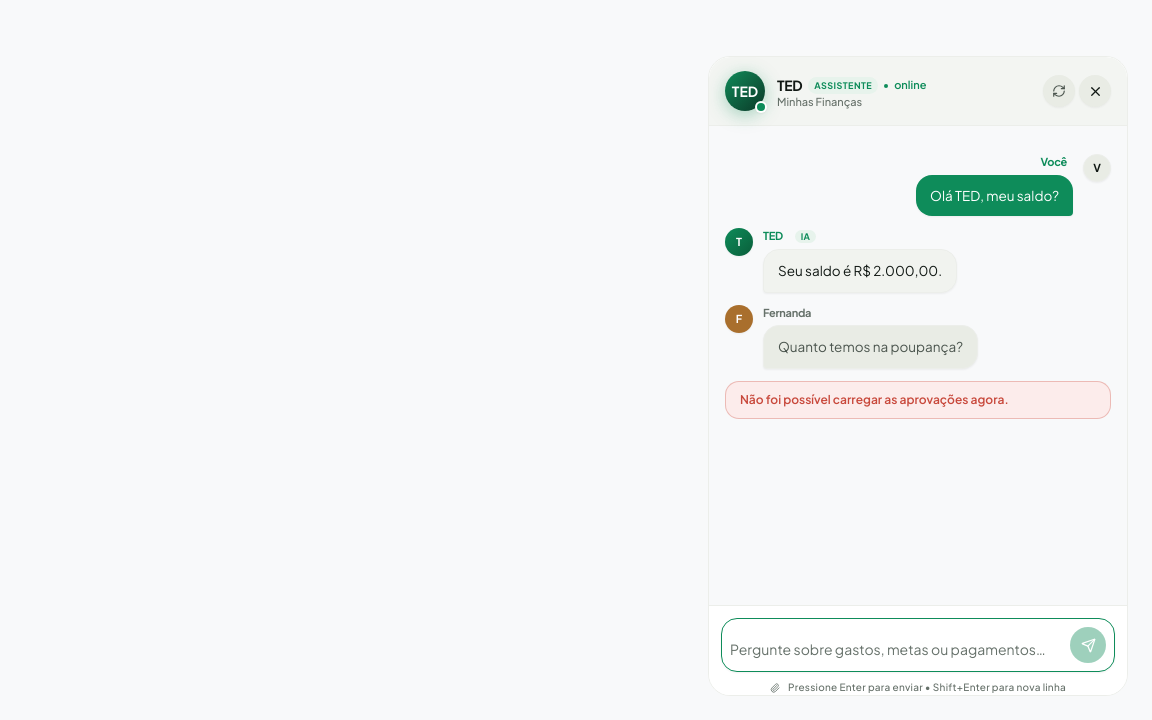
TedChat Component – Canonical FinanceChatAgent REST › shows a safe error when sending a message fails
The width and height of the screenshot is (1152, 720).
Check: the text "Olá TED, meu saldo?" is shown, box [930,184,1059,206]
Type "Olá" into the text box with placeholder "Pergunte sobre gastos, metas ou pagamentos…".
click(897, 649); type("Olá")  # box [730,635,1064,663]
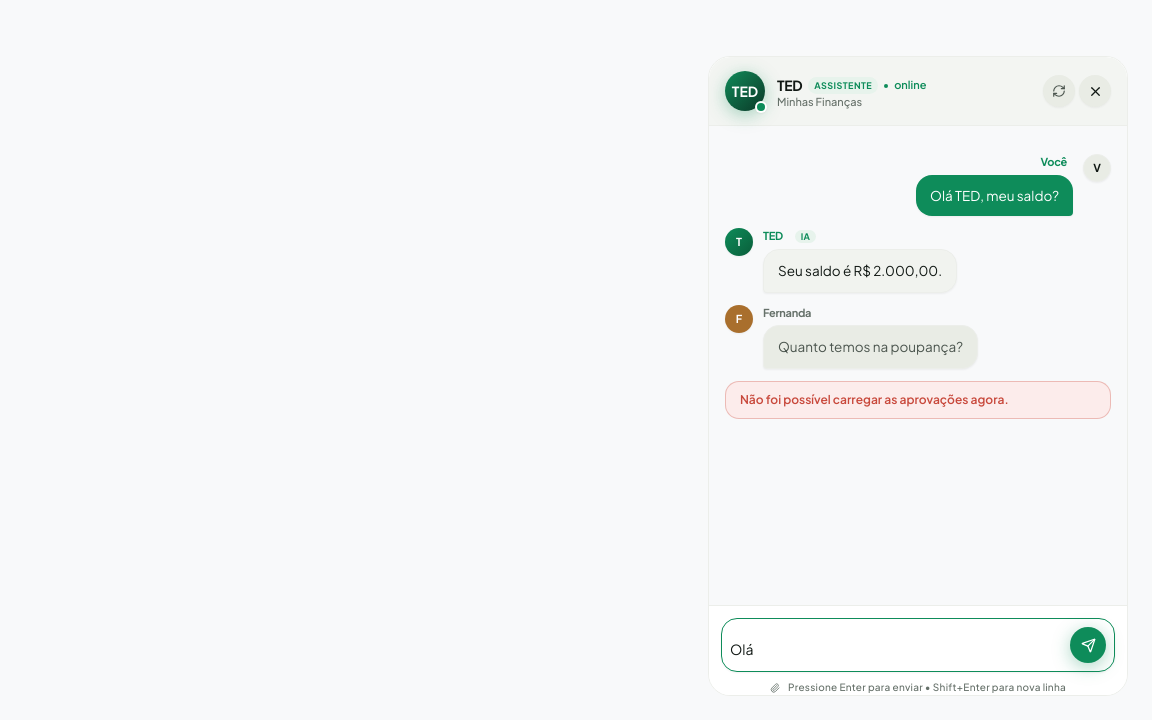
Click the button named "enviar mensagem".
click(1088, 645)  # box [1070,627,1106,663]
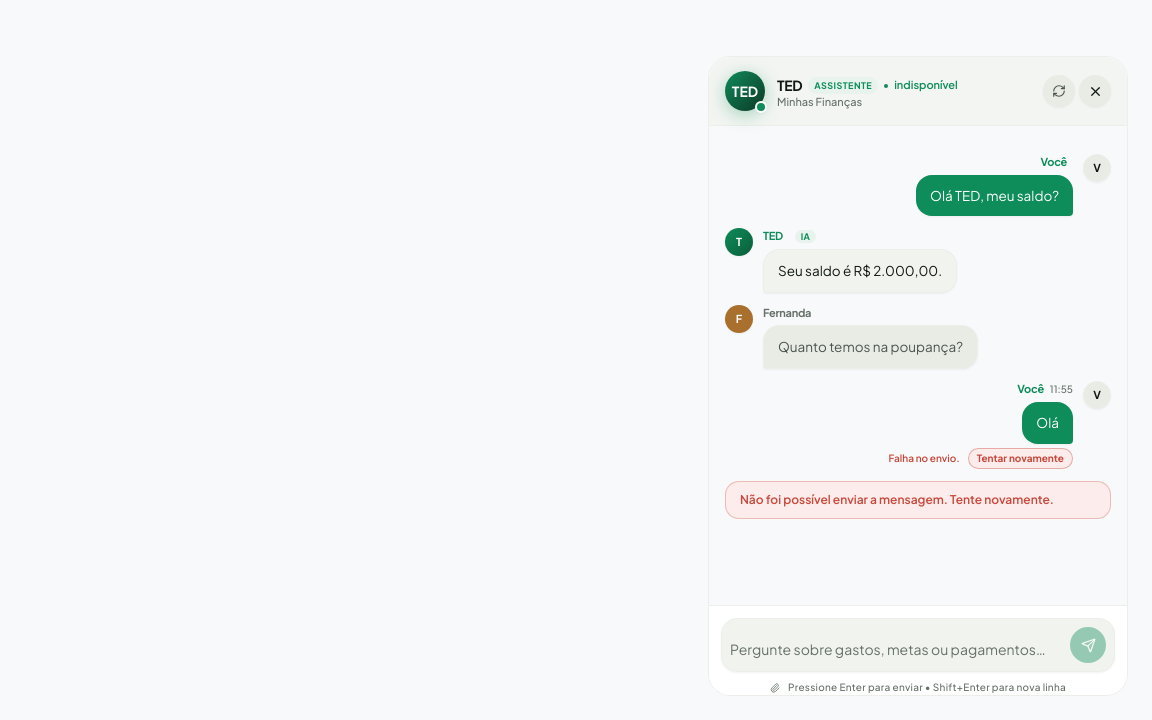
Check: the message shows "Não foi possível enviar a mensagem.", box [740,492,1054,507]
